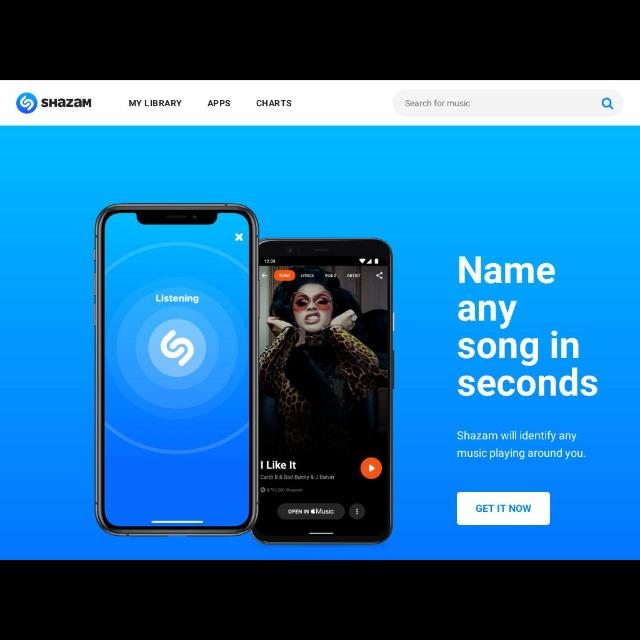icon: (602, 96, 614, 110)
image: (1, 129, 640, 559), (18, 90, 92, 116)
input: (392, 89, 620, 115)
text: (458, 252, 600, 402), (454, 428, 588, 460), (404, 98, 471, 108), (127, 98, 181, 108), (258, 97, 290, 107), (205, 99, 231, 109)
textbutton: (457, 493, 549, 523)
toolbar: (1, 83, 639, 123)
